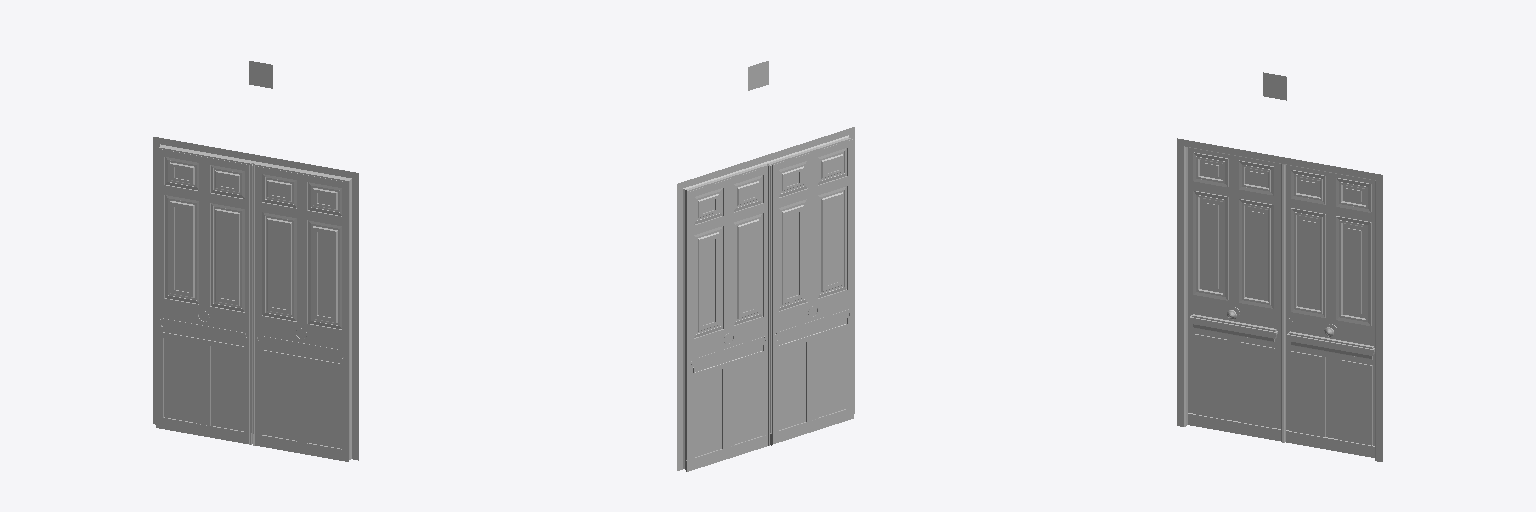
The picture shows the model from 3 angles: view 1: azimuth 90°, elevation 25°; view 2: azimuth 150°, elevation 25°; view 3: azimuth 270°, elevation 25°; orthographic projection.
Parts seen in each view (by area): view 1: Bistro_Research_Exterior_Paris_Building_08_paris_buildi_1d1ad82; view 2: Bistro_Research_Exterior_Paris_Building_08_paris_buildi_1d1ad82; view 3: Bistro_Research_Exterior_Paris_Building_08_paris_buildi_1d1ad82.
Boxes of the visible parts, <box> form: Bistro_Research_Exterior_Paris_Building_08_paris_buildi_1d1ad82: <box>153,61,358,461</box>; Bistro_Research_Exterior_Paris_Building_08_paris_buildi_1d1ad82: <box>677,61,854,471</box>; Bistro_Research_Exterior_Paris_Building_08_paris_buildi_1d1ad82: <box>1177,72,1382,461</box>.
Bounding box in the file's own units: 1.22 × 5.53 × 2.76.